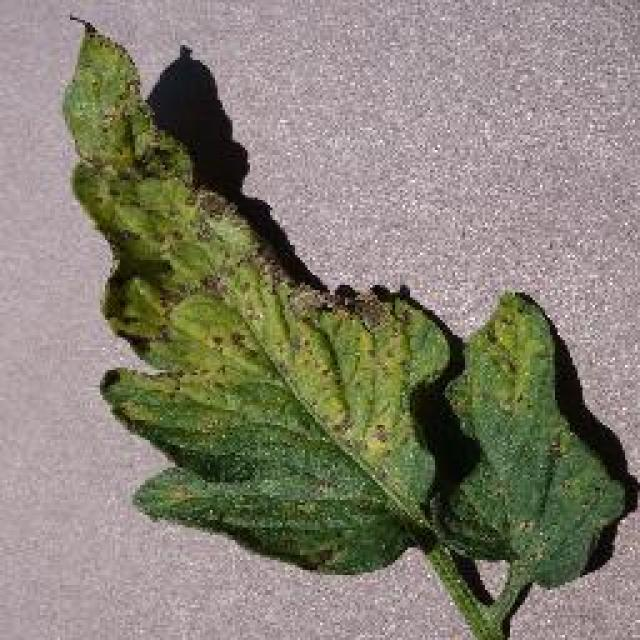Tom_Septoria_leaf_spot: (110, 242, 415, 440), (58, 39, 194, 222)
